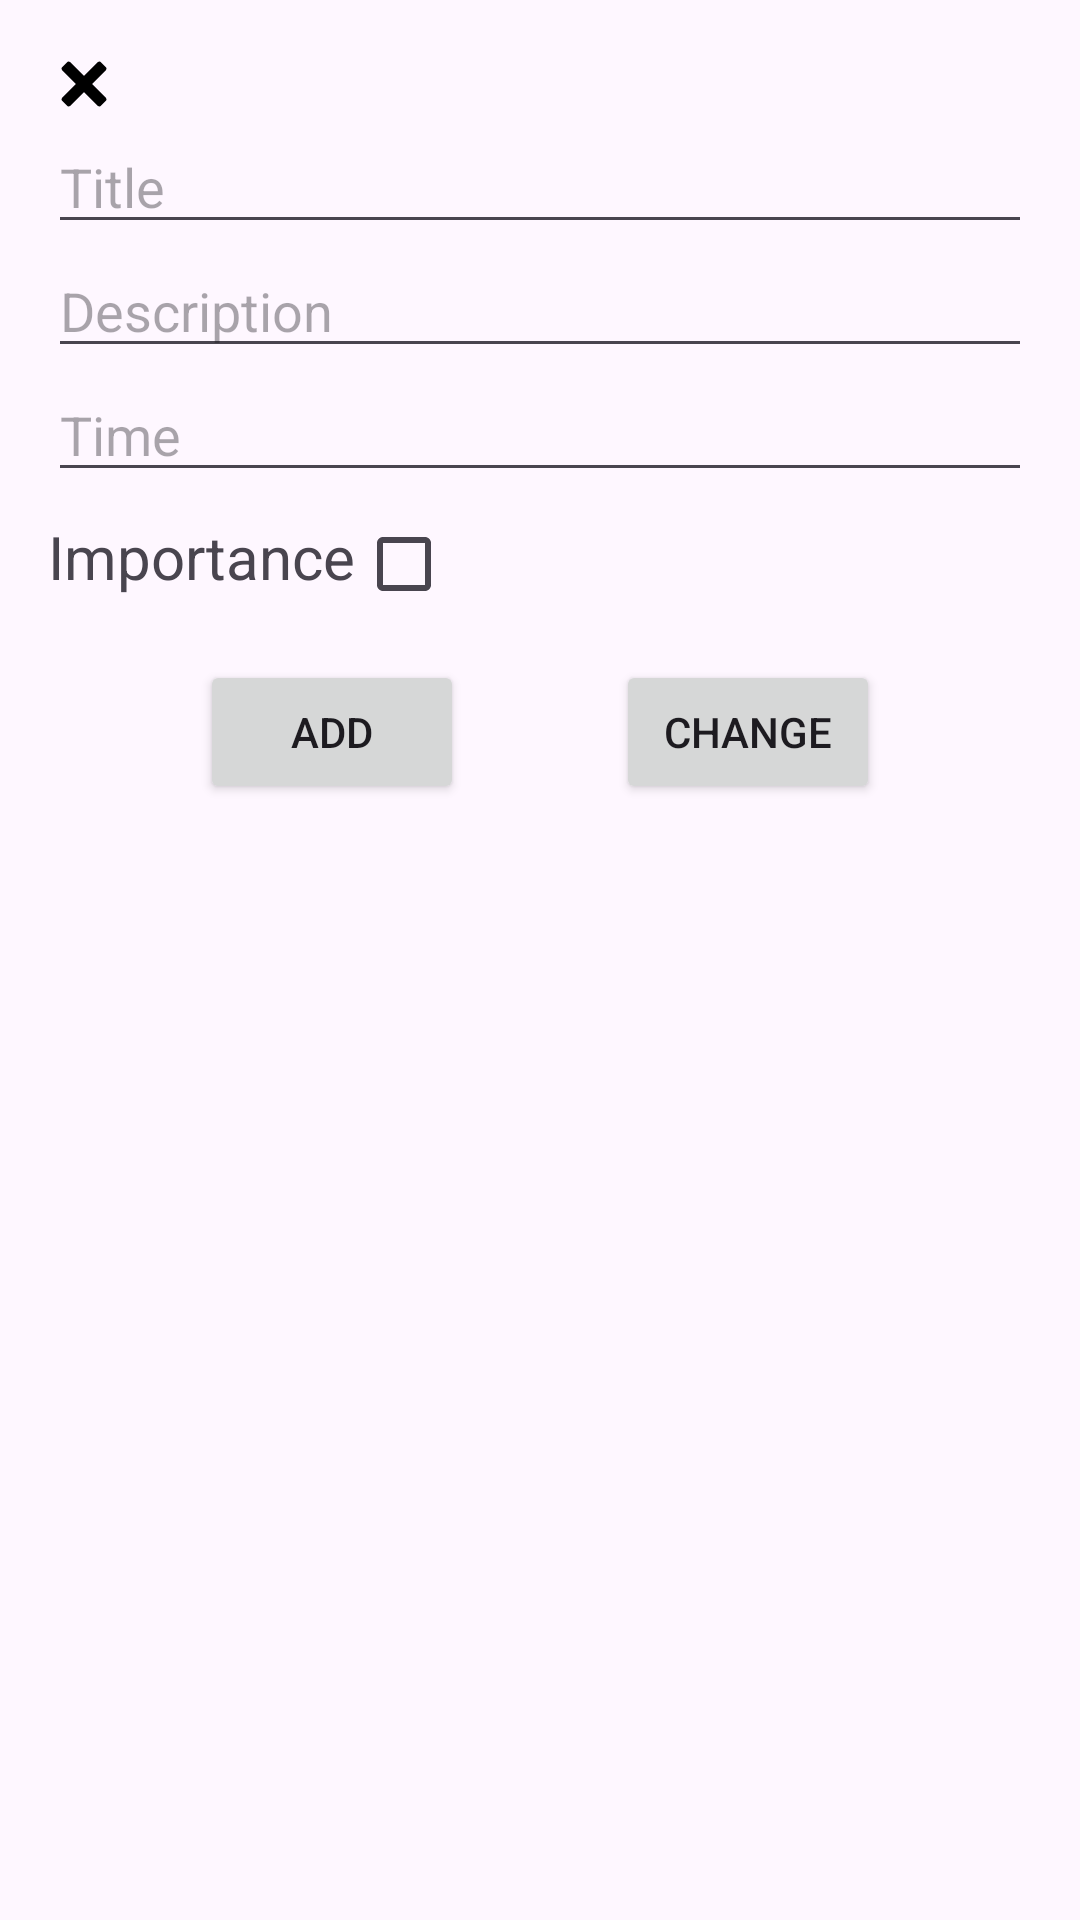

Screen size 1080 × 1920. Icon name, then its center in pixels as [x,y]:
cancel: [84,84]
